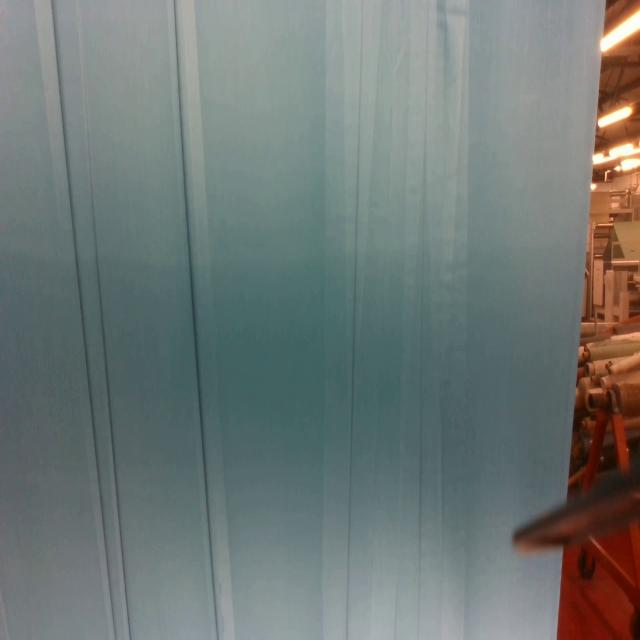crease: (49, 1, 132, 638), (174, 1, 222, 640), (346, 0, 365, 638), (415, 0, 430, 638)
